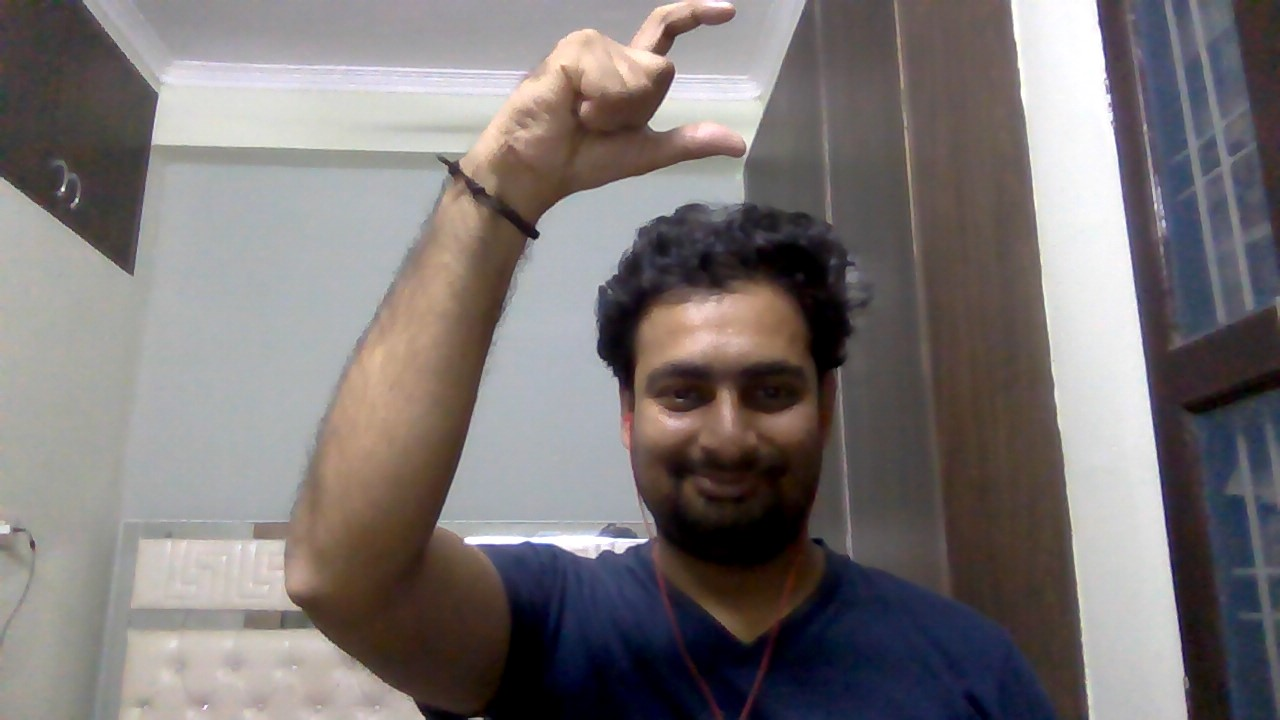Paste: (477, 4, 763, 211)
